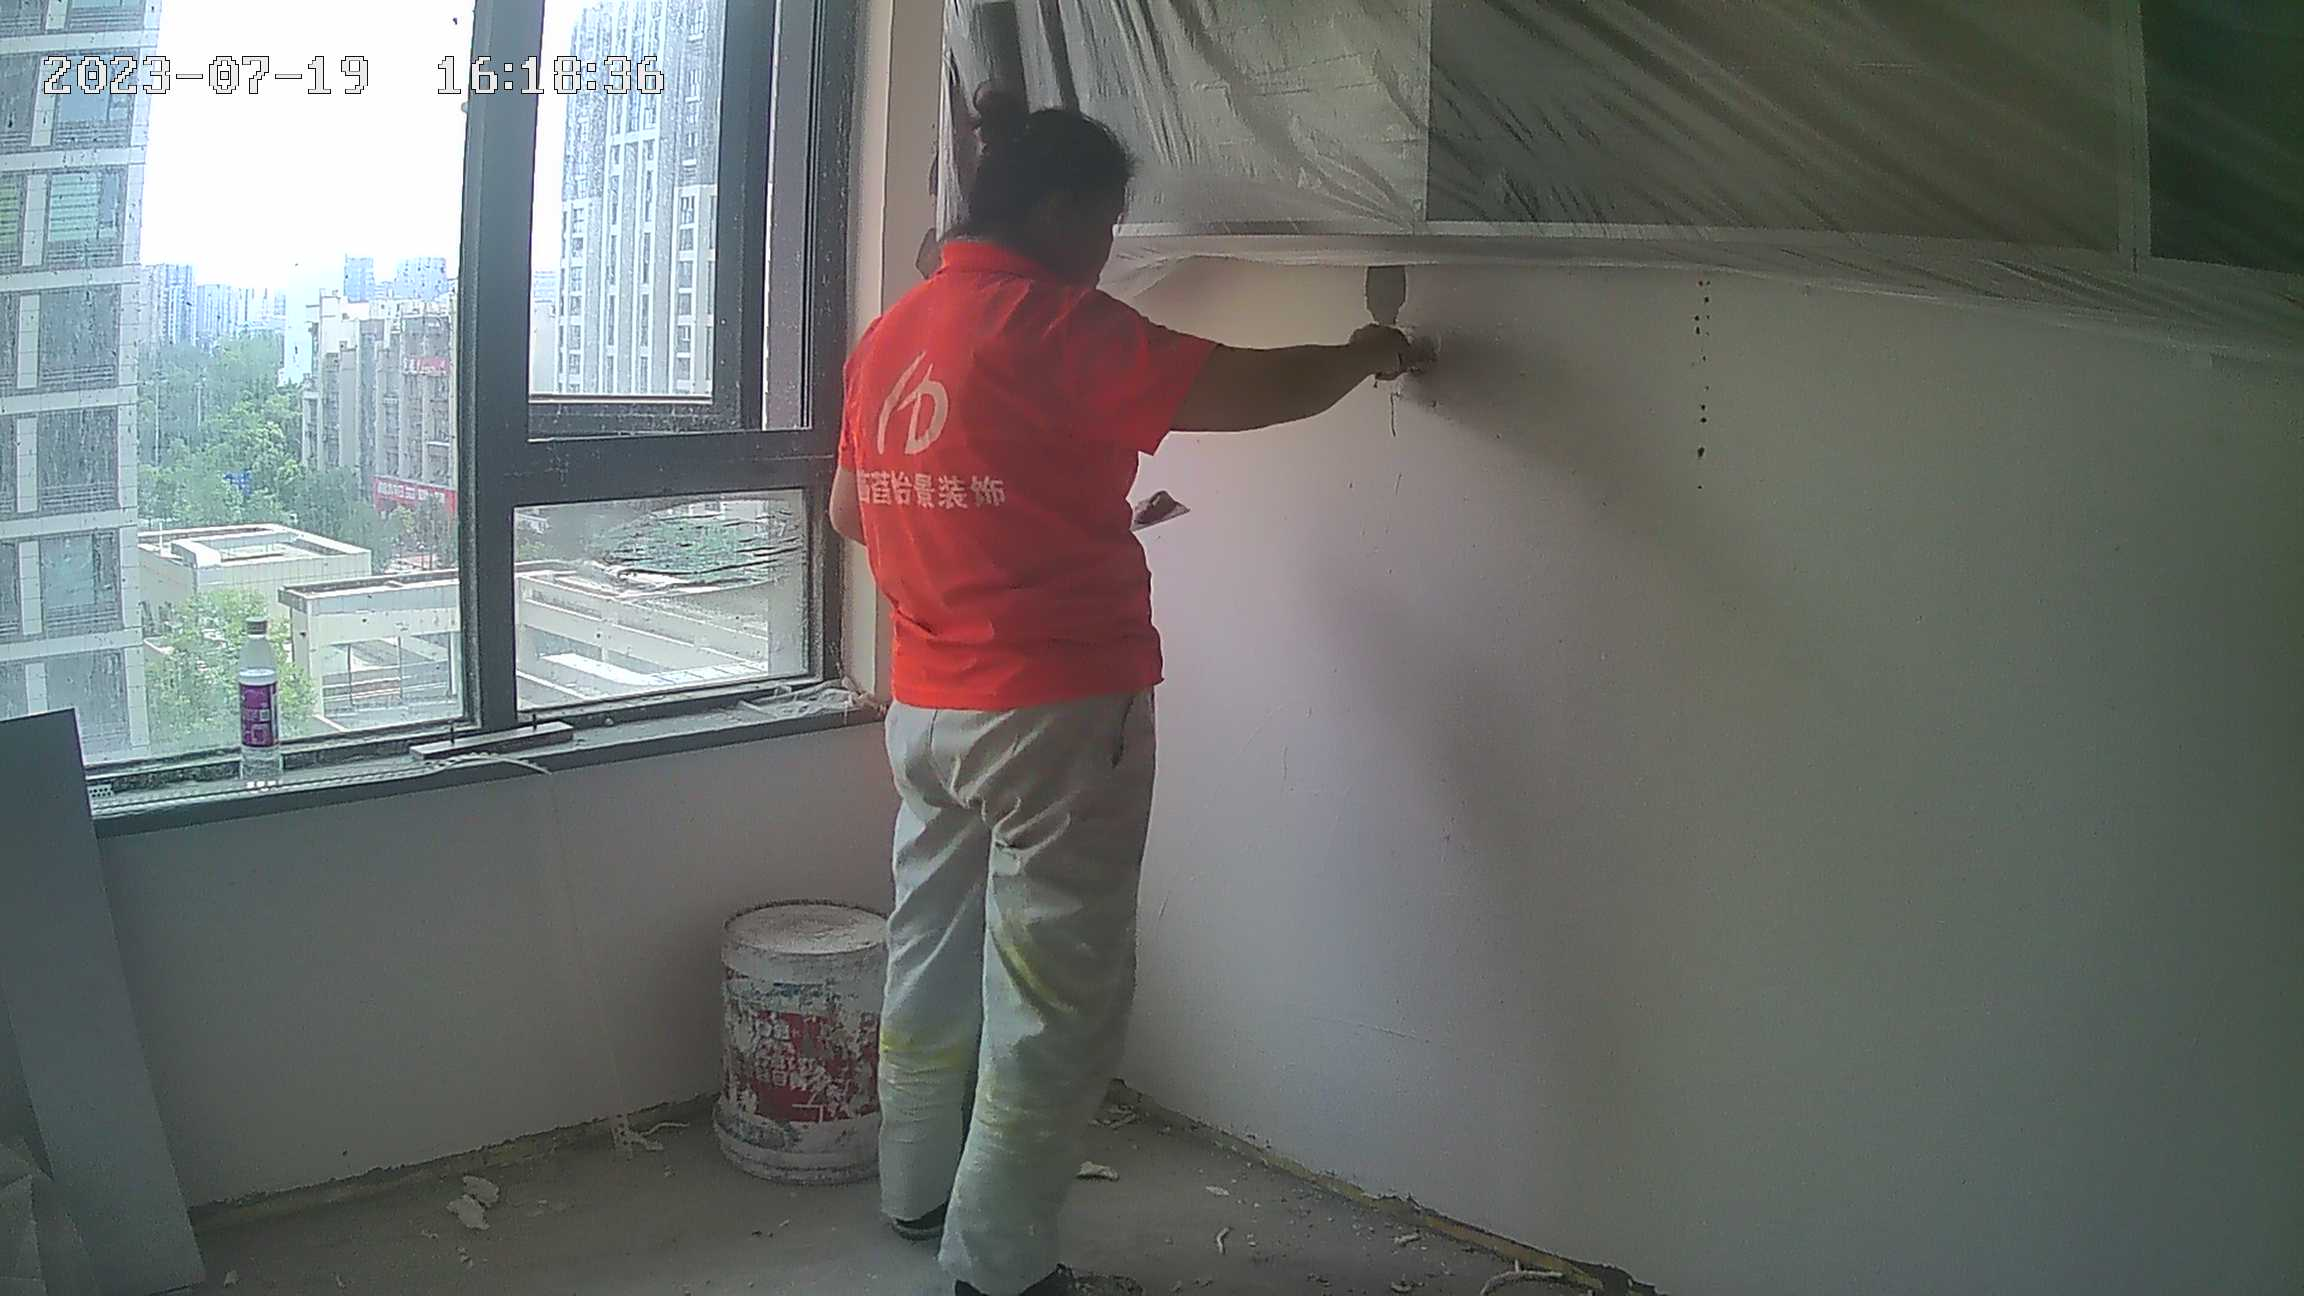people: (826, 101, 1406, 1295)
window: (1, 1, 835, 805)
